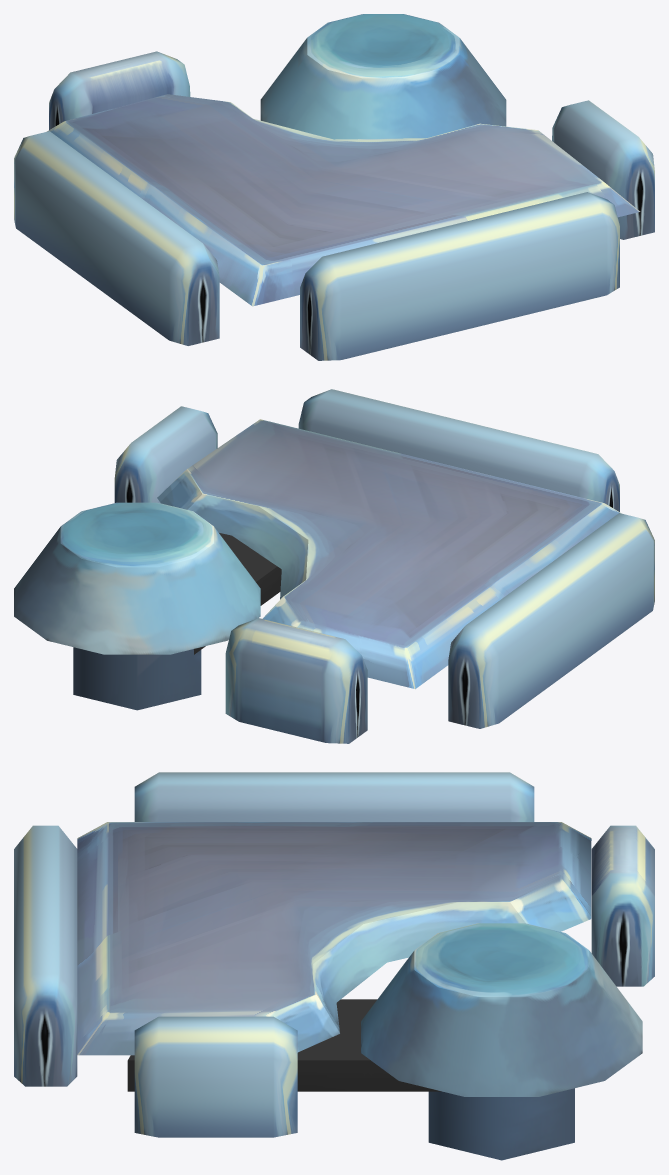
File: Module.fbx
The picture shows the model from 3 angles, top to bottom: view 1: azimuth 30°, elevation 25°; view 2: azimuth 150°, elevation 25°; view 3: azimuth 270°, elevation 25°; orthographic projection. The views are drawn at different scales.
Parts seen in each view (by area): view 1: Component_PuzzleBackground.001; view 2: Component_PuzzleBackground.001; view 3: Component_PuzzleBackground.001.
Boxes of the visible parts, x1,y1,x2,y2 form: Component_PuzzleBackground.001: [14, 14, 654, 360]; Component_PuzzleBackground.001: [14, 389, 654, 743]; Component_PuzzleBackground.001: [14, 772, 654, 1160].
Size of the model in its own units: 100 by 29.33 by 100.
